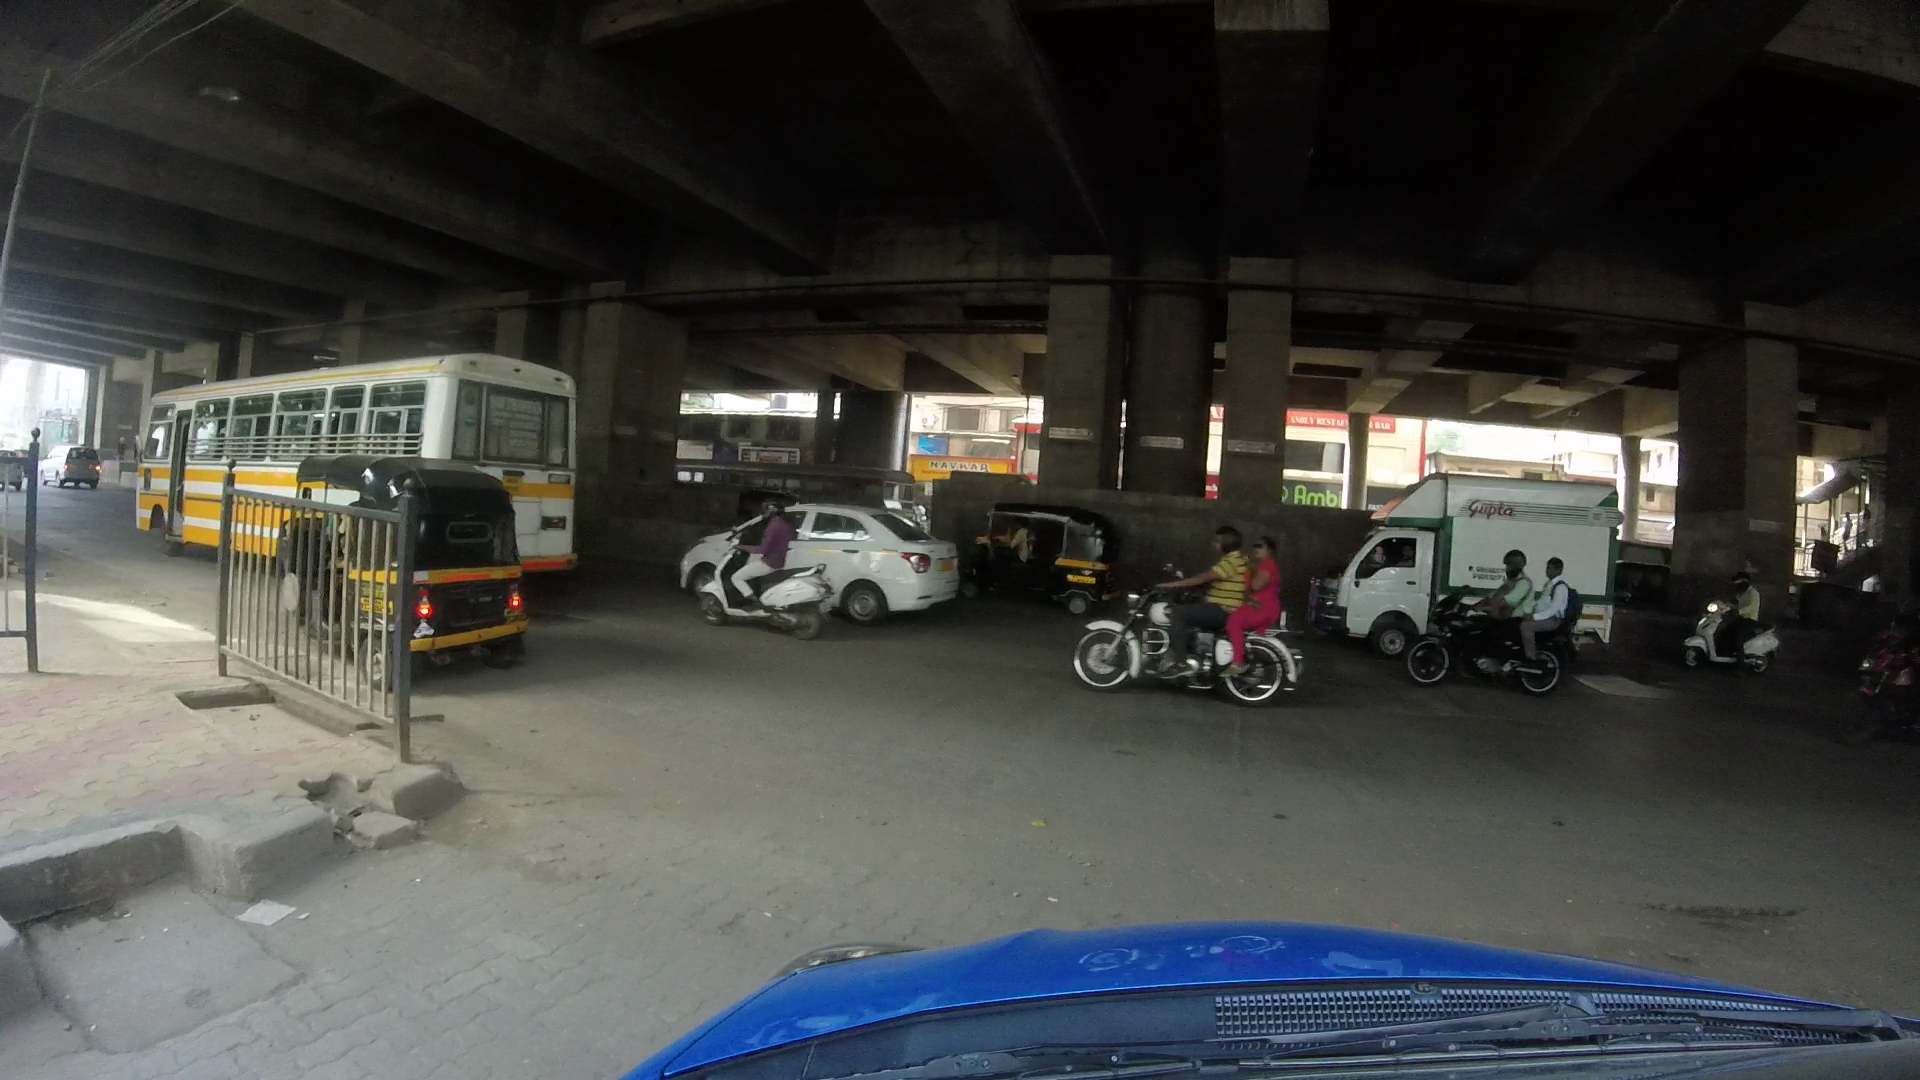bike/scooter: (1056, 524, 1321, 712), (1404, 541, 1577, 694), (705, 506, 829, 636)
bus: (116, 357, 599, 562)
car: (673, 469, 963, 611)
rickshaw: (260, 446, 553, 679), (977, 498, 1120, 603)
truck: (1331, 459, 1556, 649)
